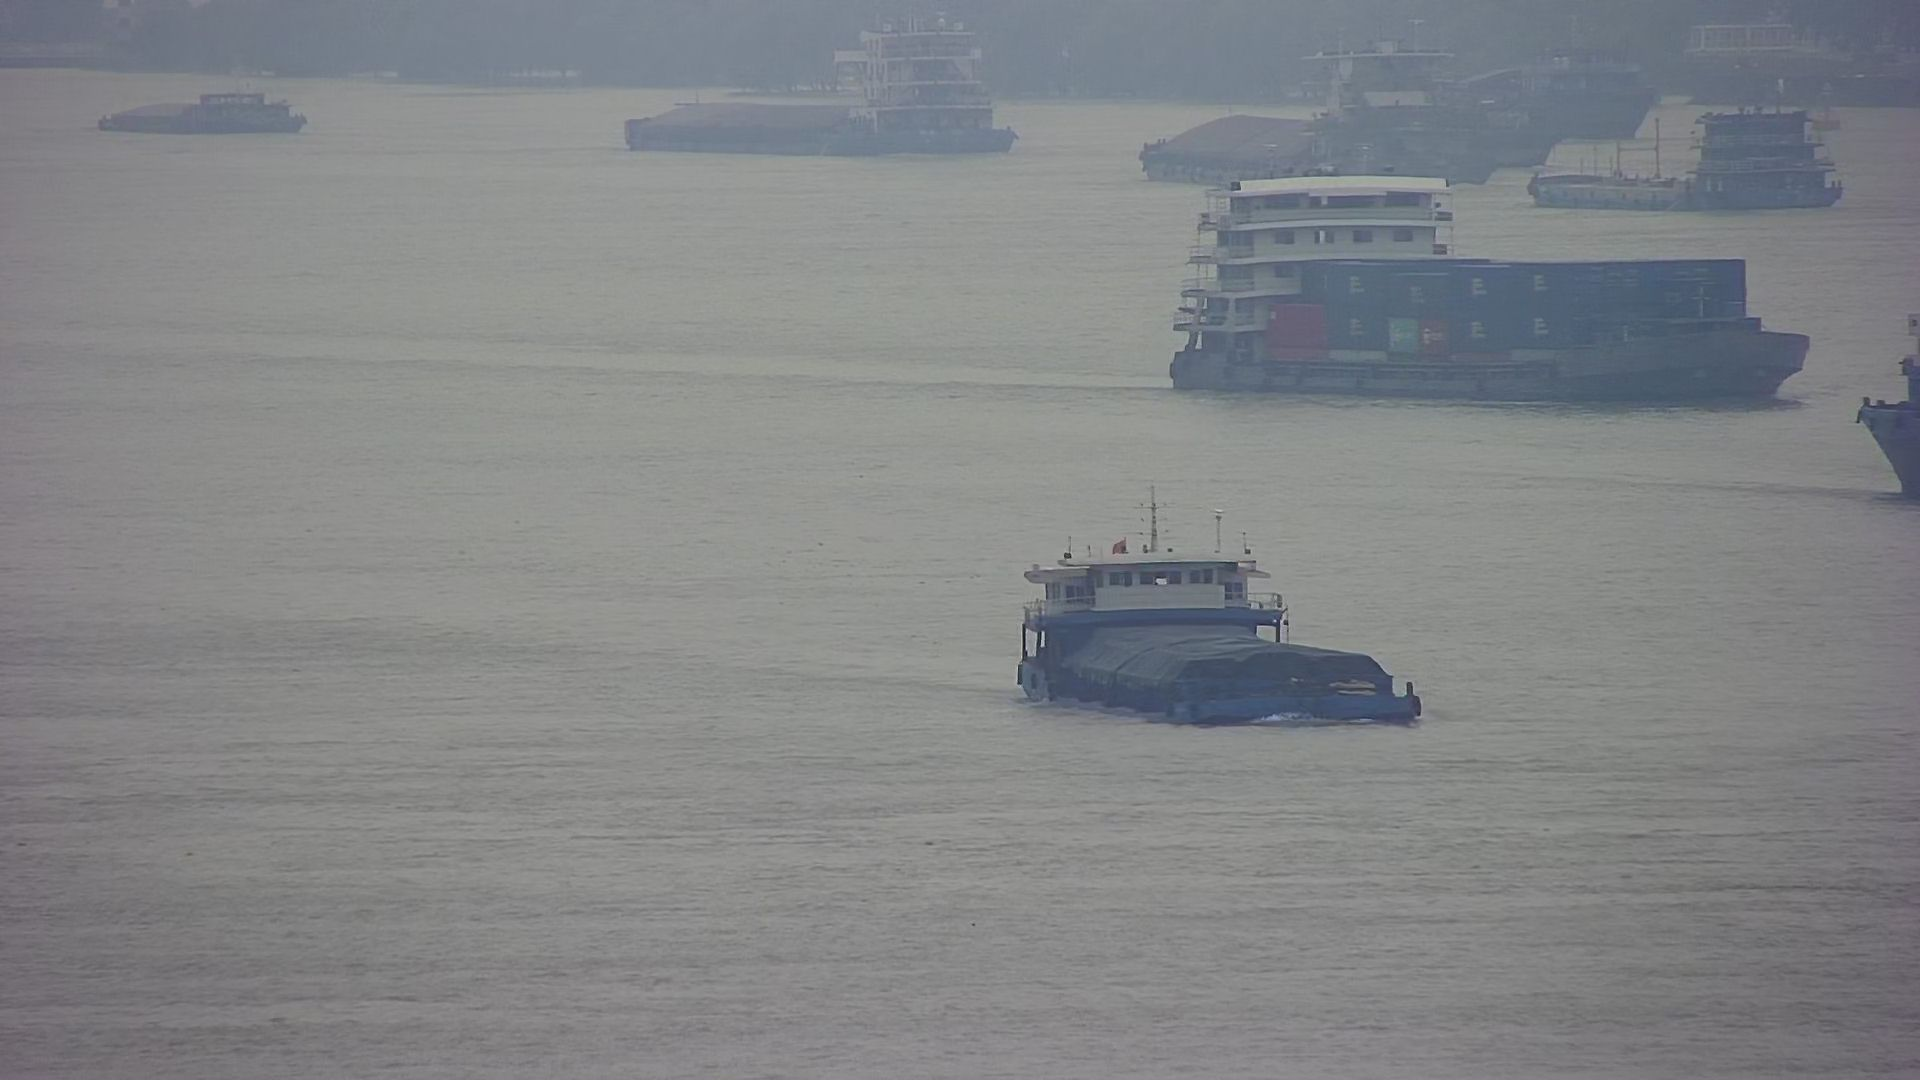ship: (1168, 161, 1813, 405), (1013, 495, 1428, 728), (1139, 36, 1528, 187), (626, 18, 1022, 156), (1520, 105, 1845, 208), (1859, 295, 1920, 502), (96, 91, 309, 131)
